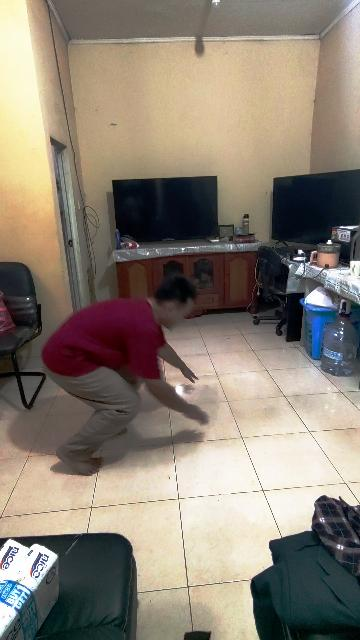jatuh: (22, 272, 210, 476)
